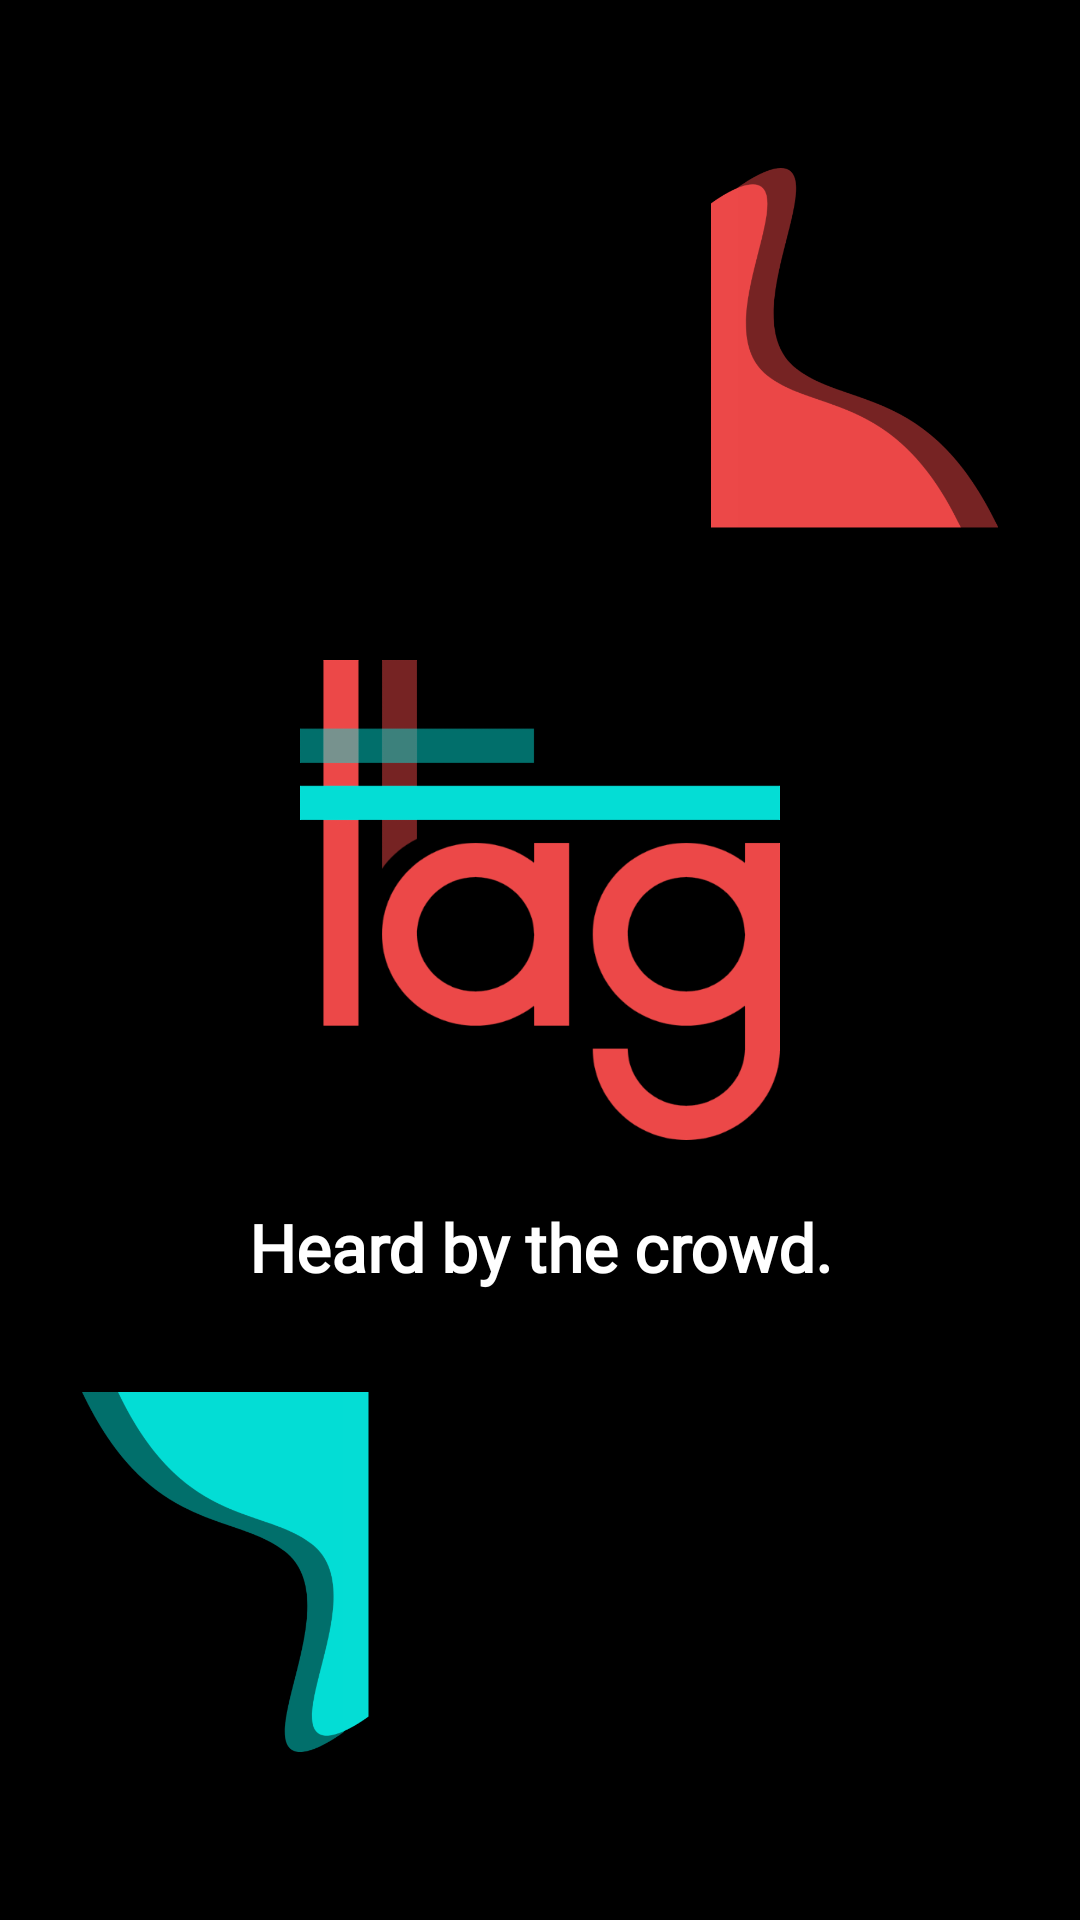

Icons on this 1080 x 1920 Android screen, each with its box as [x1, y1, x2, y2]:
pattern: [711, 168, 998, 528], [82, 1392, 369, 1752]
